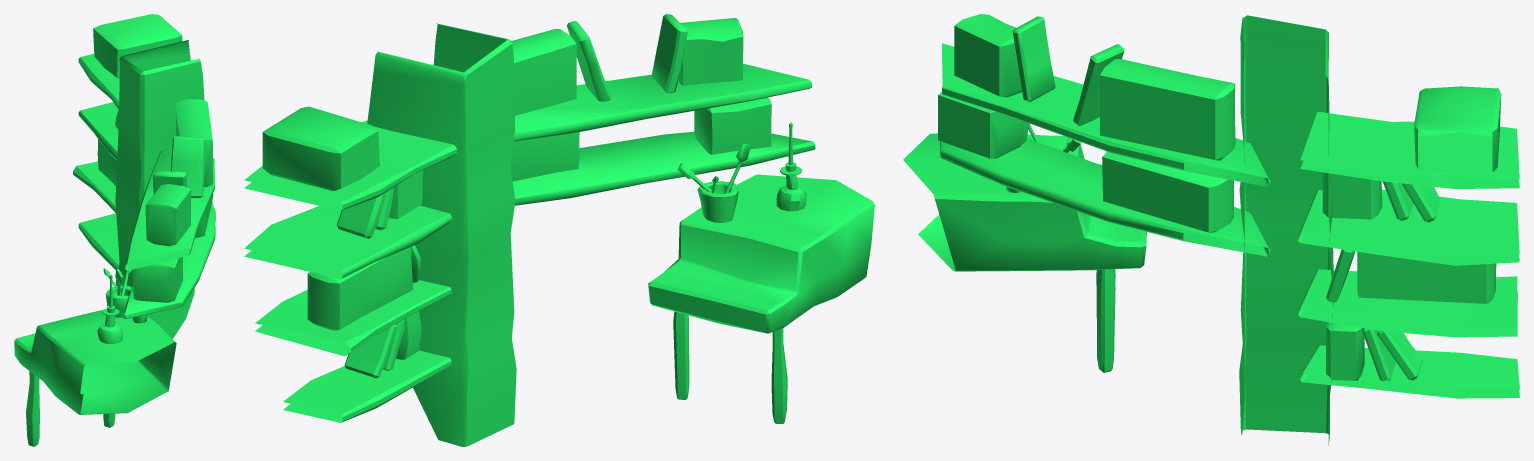
The model's file is mc_side_right_int_nats_room_lod01.FBX.
3 renders of one model, left to right at view 1: azimuth 30°, elevation 25°; view 2: azimuth 150°, elevation 25°; view 3: azimuth 270°, elevation 25°, orthographic. The views are drawn at different scales.
Parts seen in each view (by area): view 1: mc_side_right_int_nats_room; view 2: mc_side_right_int_nats_room; view 3: mc_side_right_int_nats_room.
Boxes of the visible parts, x1=… form: mc_side_right_int_nats_room: x1=14, y1=14, x2=215, y2=446; mc_side_right_int_nats_room: x1=244, y1=14, x2=874, y2=446; mc_side_right_int_nats_room: x1=903, y1=14, x2=1519, y2=445.
Bounding box in the file's own units: 28.52 × 28.56 × 38.29.
